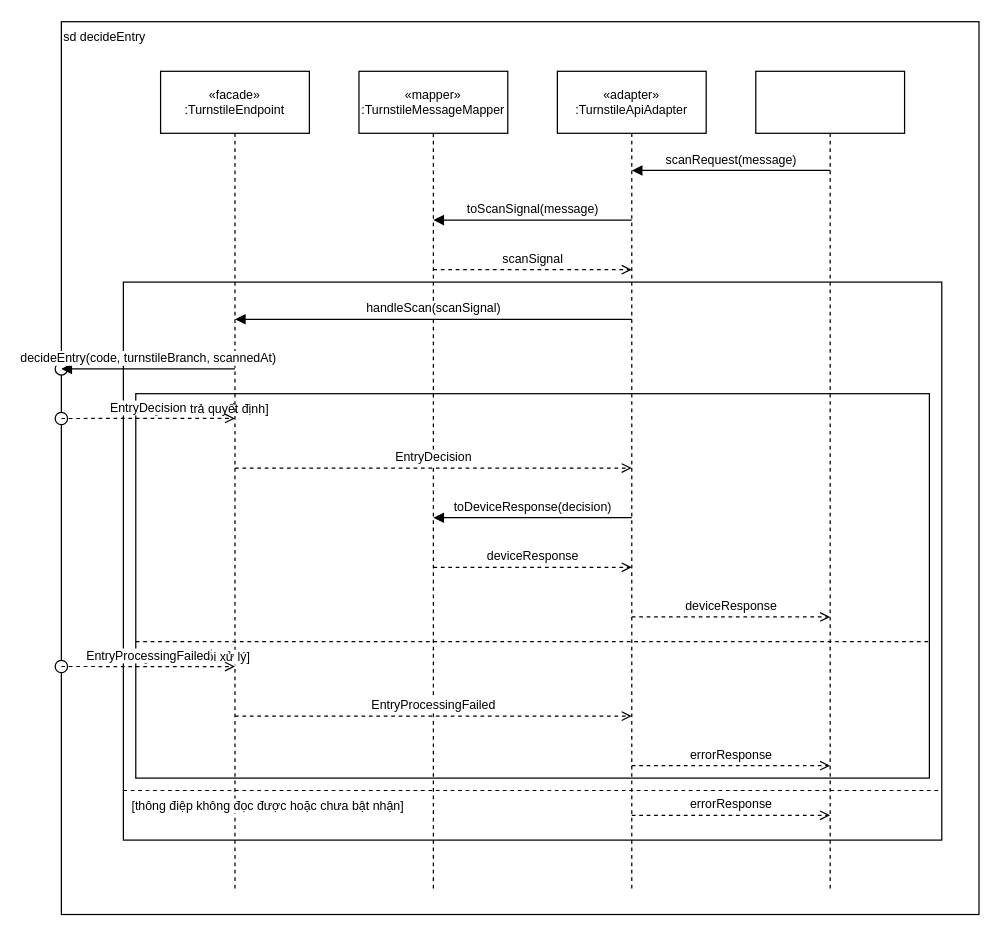
Some shapes in this 1002 by 936 pixel diagram are drawn without their labels. Here are the shapes that lost their labels. From the top down, the box of each, then its label:
(755, 70, 905, 890): «actor» Cửa quay (ACT-12)
(122, 281, 942, 840): alt [thông điệp hợp lệ và đã bật nhận]
